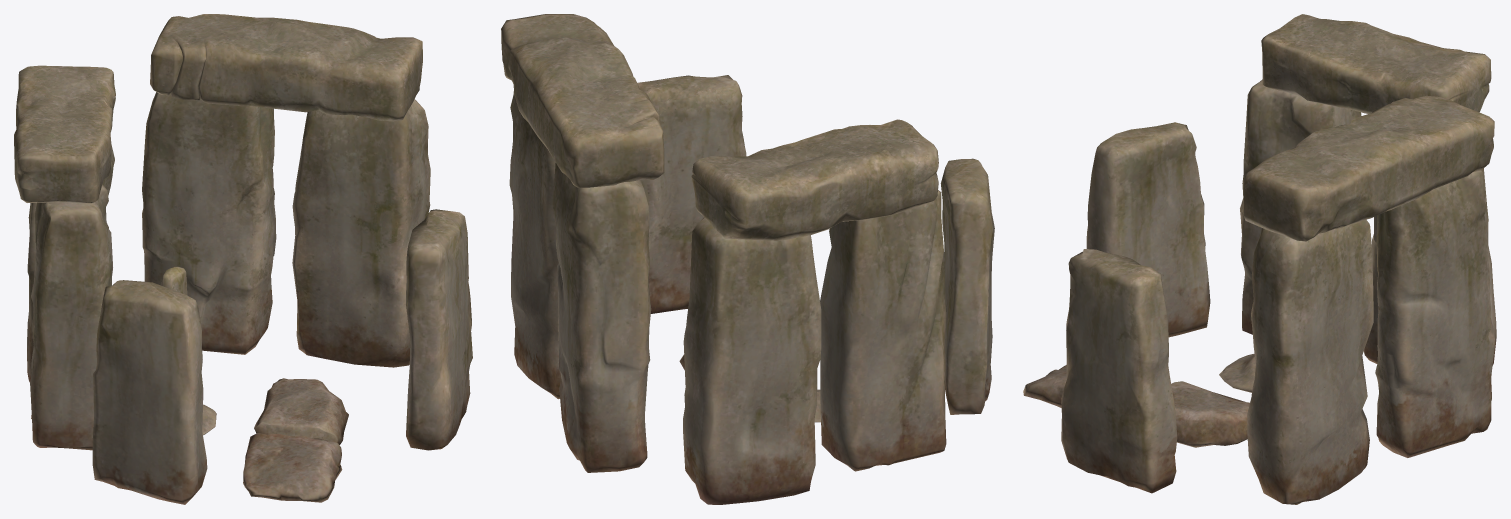
Rendered from FtrStonehenge.glb.
The picture shows the model from 3 angles, left to right: view 1: azimuth 30°, elevation 25°; view 2: azimuth 150°, elevation 25°; view 3: azimuth 270°, elevation 25°; orthographic projection. The views are drawn at different scales.
Visible parts, largest first — view 1: BlueStone_low__mBody; view 2: BlueStone_low__mBody; view 3: BlueStone_low__mBody.
Part boxes in pixels (<box>): BlueStone_low__mBody: <box>14,14,472,504</box>; BlueStone_low__mBody: <box>501,14,994,504</box>; BlueStone_low__mBody: <box>1023,14,1496,504</box>.
Bounding box in the file's own units: 29.2 × 22.41 × 28.71.
1 material, 1 textured.
